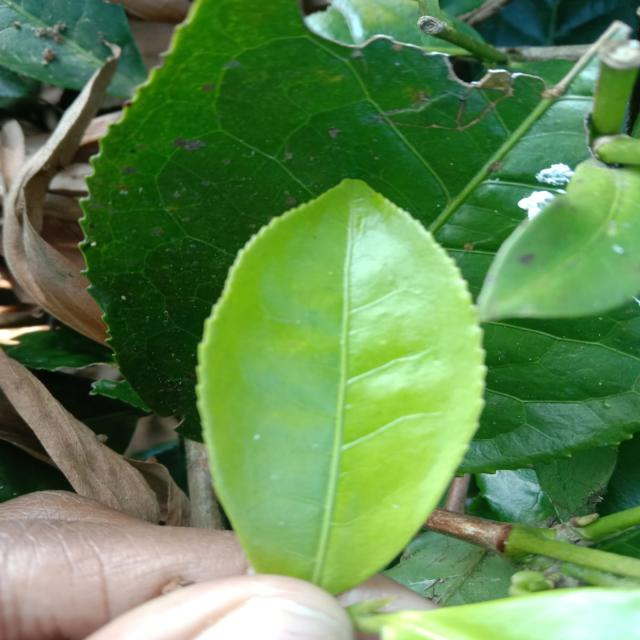Category B(2-4 days): (181, 165, 496, 607)
